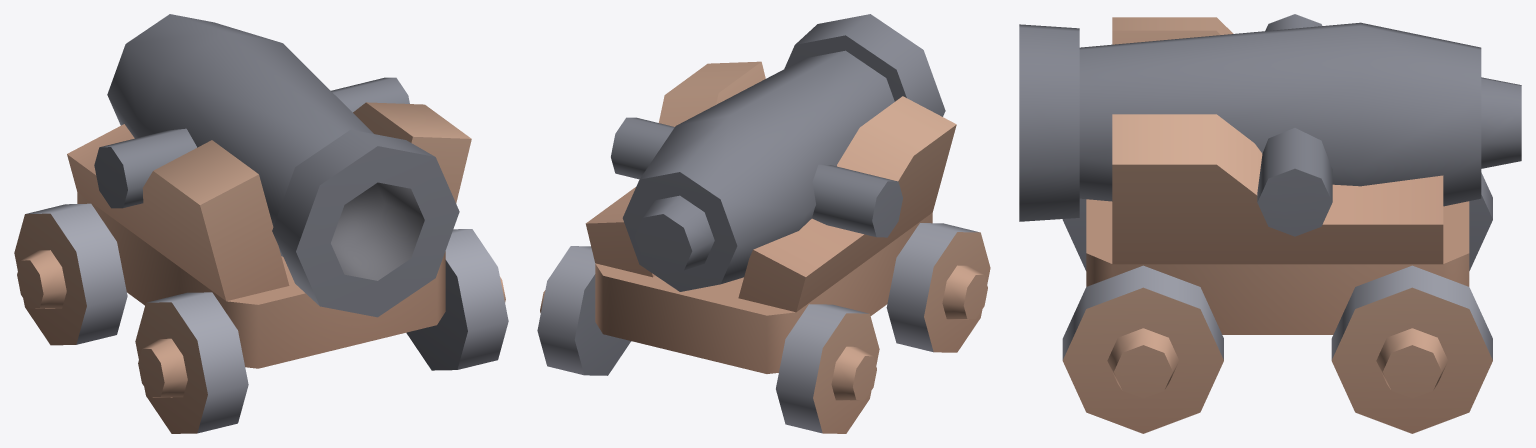
Rendered from cannon-mobile.glb.
The picture shows the model from 3 angles, left to right: view 1: azimuth 30°, elevation 25°; view 2: azimuth 150°, elevation 25°; view 3: azimuth 270°, elevation 25°; orthographic projection. The views are drawn at different scales.
Parts seen in each view (by area): view 1: cannon-mobile, Group (×2); view 2: cannon-mobile, Group (×2); view 3: cannon-mobile, Group (×2).
Boxes of the visible parts, x1,y1,x2,y2 form: cannon-mobile: (14,14,508,433); Group (×2): (67,102,471,301); cannon-mobile: (537,14,990,433); Group (×2): (585,61,956,312); cannon-mobile: (1019,14,1521,433); Group (×2): (1112,17,1443,264).
Bounding box in the file's own units: 1.68 × 1.38 × 1.92.
